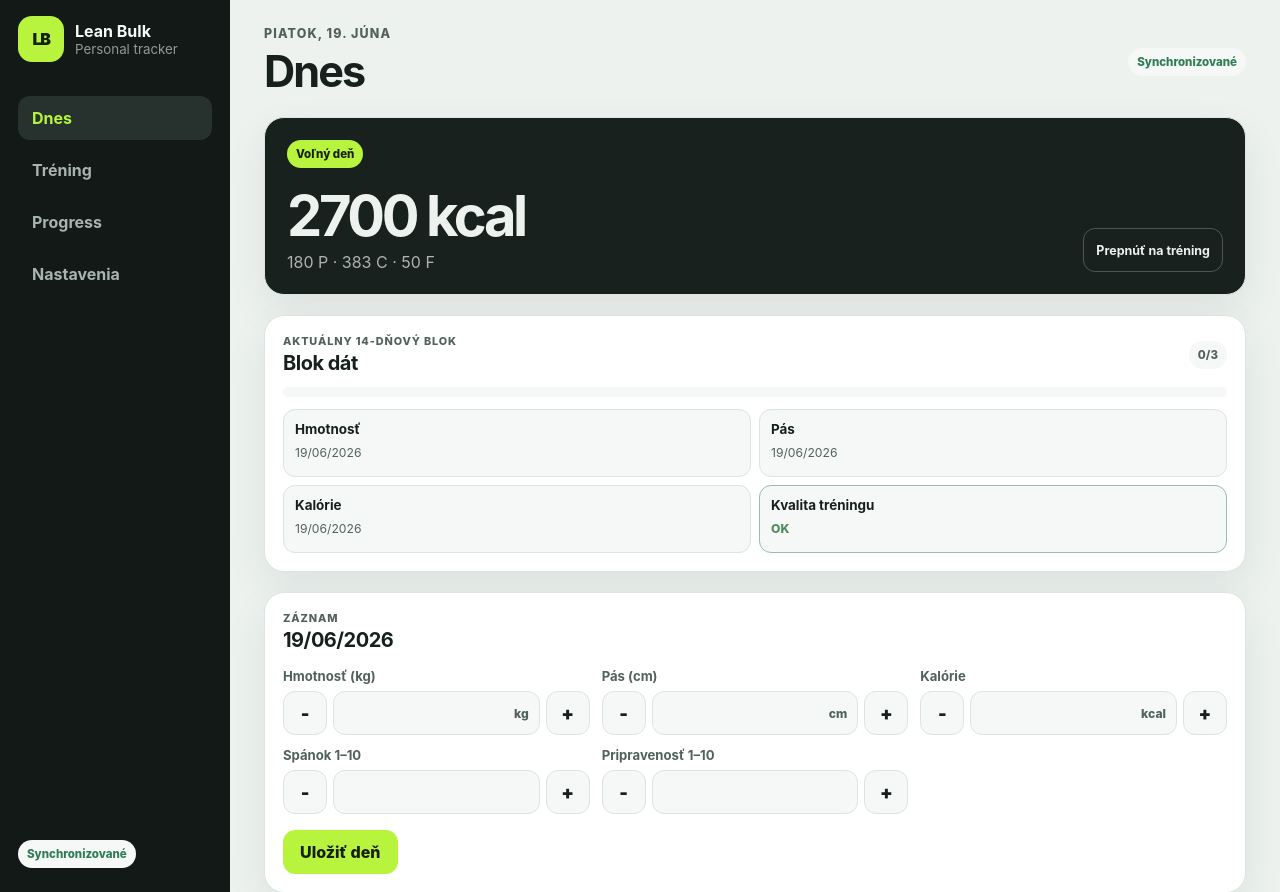
App demo mode › shows a daily save error and unlocks the button
The width and height of the screenshot is (1280, 892).
Type "81.4" into the number field labelled "Hmotnosť (kg)". click: (436, 713)
box: [333,691,540,735]
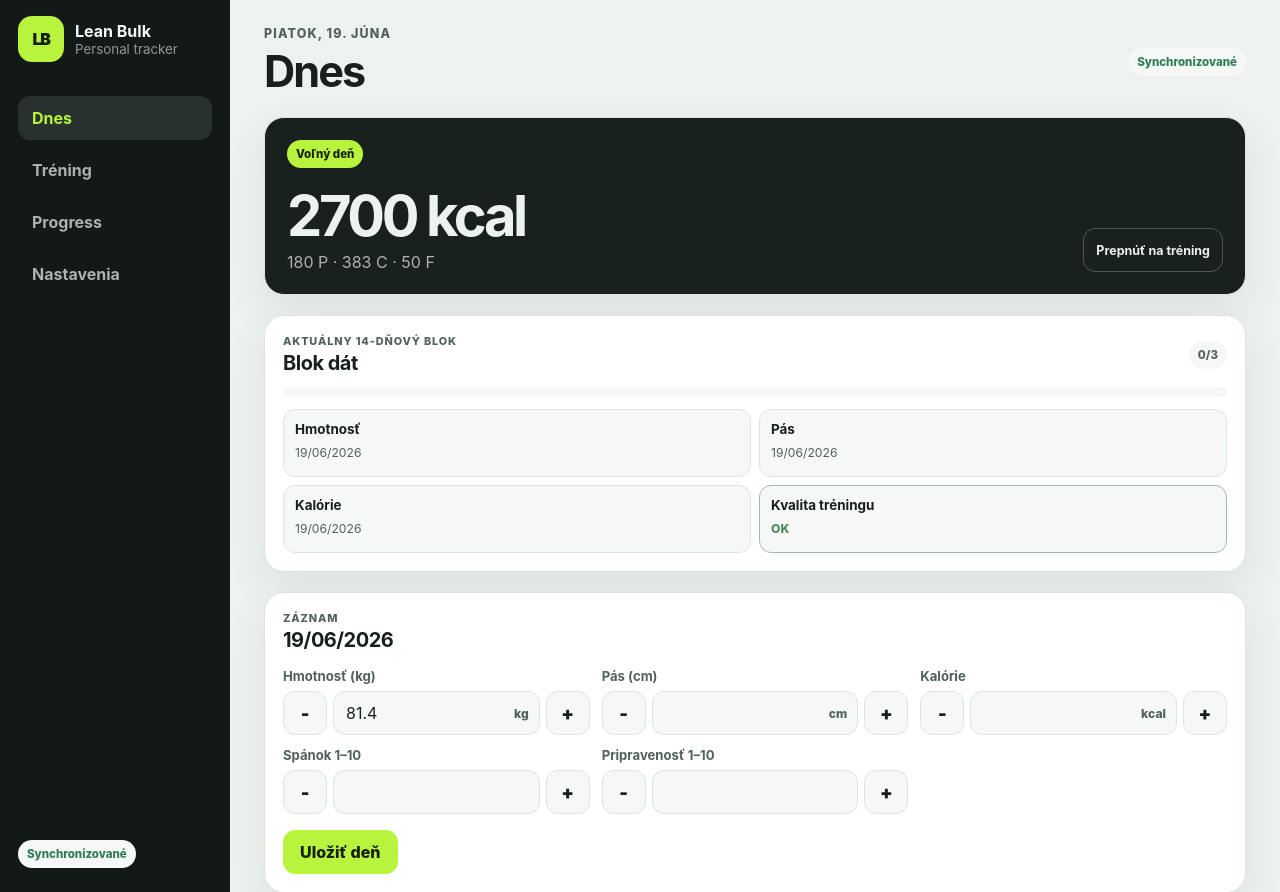
Click the button "Uložiť deň". click: (340, 852)
box: [283,830,398,874]
(page scrolled)
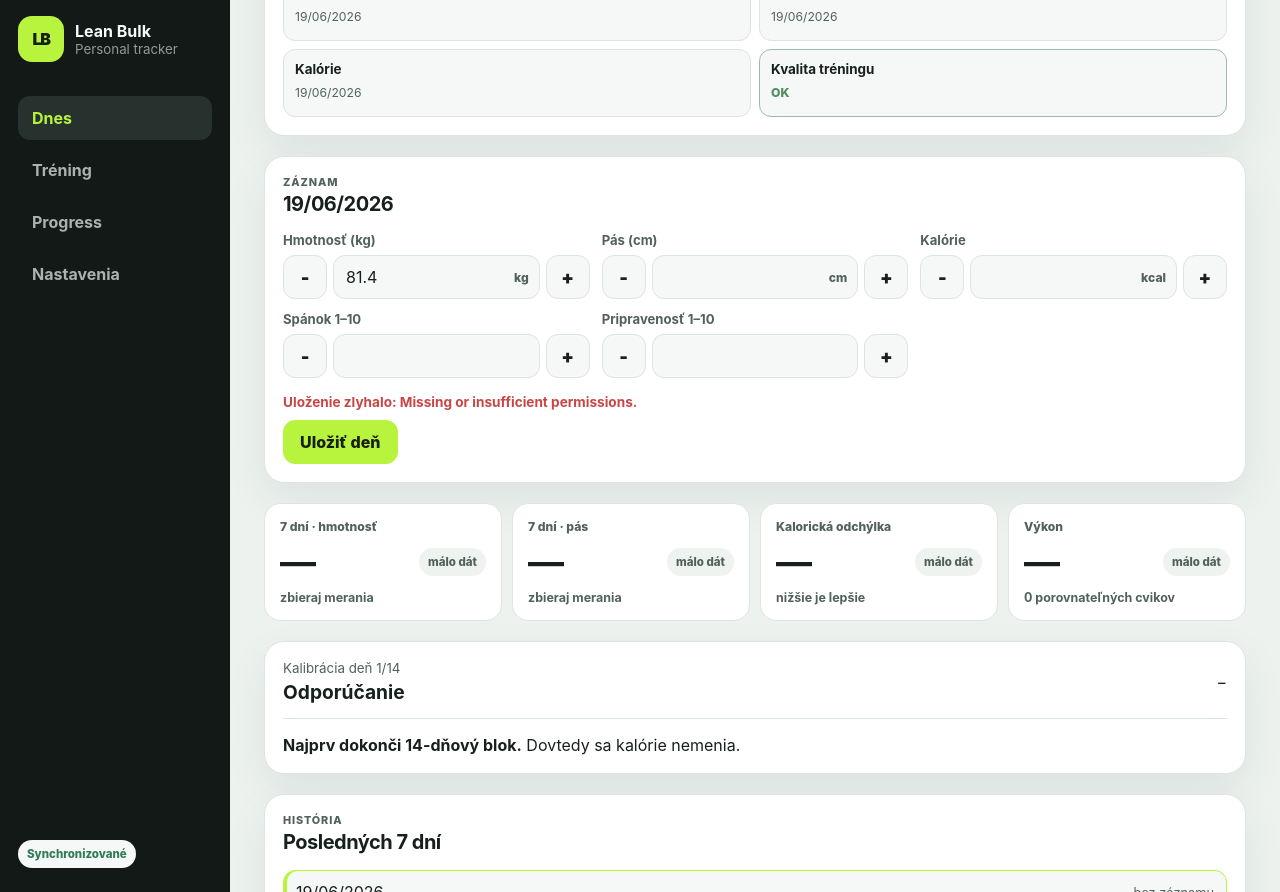
Check: the button "Uložiť deň" is enabled, box [283,420,398,464]
Check: the text "Uloženie zlyhalo: Missing or insufficient permissions." is shown, box [283,394,637,410]
